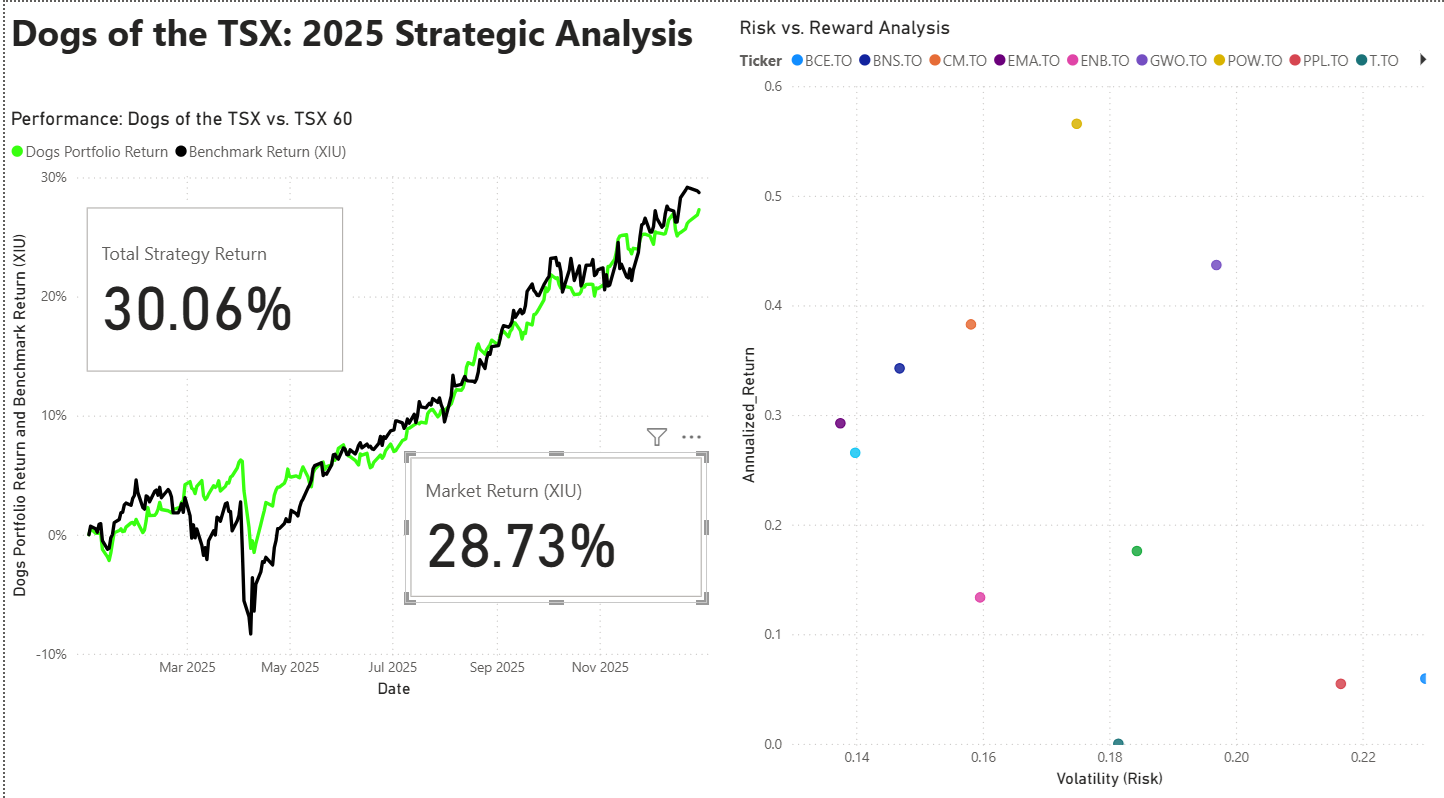

What the dashboard file says about the page in this screenshot:
{"tool":"powerbi","page":{"name":"Page 1","canvas":[1280,720],"ordinal":0},"visuals":[{"type":"lineChart","title":"Performance: Dogs of the TSX vs. TSX 60","fields":{"Category":["Dogs_of_TSX_2025_Data.Date"],"Y":["Dogs_of_TSX_2025_Data.Dogs Portfolio Return","Dogs_of_TSX_2025_Data.Benchmark Return (XIU)"]},"box":[0,93.6,648.1,529.7],"z":0},{"type":"scatterChart","title":"Risk vs. Reward Analysis","fields":{"X":["Dogs_Risk_Metrics.Volatility (Risk)"],"Y":["Dogs_Risk_Metrics.Annualized_Return"],"Series":["Dogs_Risk_Metrics.Ticker"]},"box":[648.1,12.4,632.3,690.9],"z":1},{"type":"textbox","box":[0,0,640.2,73.3],"z":2},{"type":"cardVisual","fields":{"Data":["Dogs_of_TSX_2025_Data.Scoreboard Strategy"]},"box":[67.6,178.1,238.9,156.7],"z":3},{"type":"cardVisual","fields":{"Data":["Dogs_of_TSX_2025_Data.Scoreboard Benchmark"]},"box":[355,400.1,269.4,134.1],"z":4}]}

Visuals, with their boxes in screenshot pixels (x1, y1, x2, y2), scaled from the page's 1280x720 canvas onto the 1444x798 screenshot:
"Performance: Dogs of the TSX vs. TSX 60" lineChart: 0 104 731 691
"Risk vs. Reward Analysis" scatterChart: 731 14 1443 779
textbox: 0 0 722 81
cardVisual - Dogs_of_TSX_2025_Data.Scoreboard Strategy: 76 197 346 371
cardVisual - Dogs_of_TSX_2025_Data.Scoreboard Benchmark: 400 443 704 592
